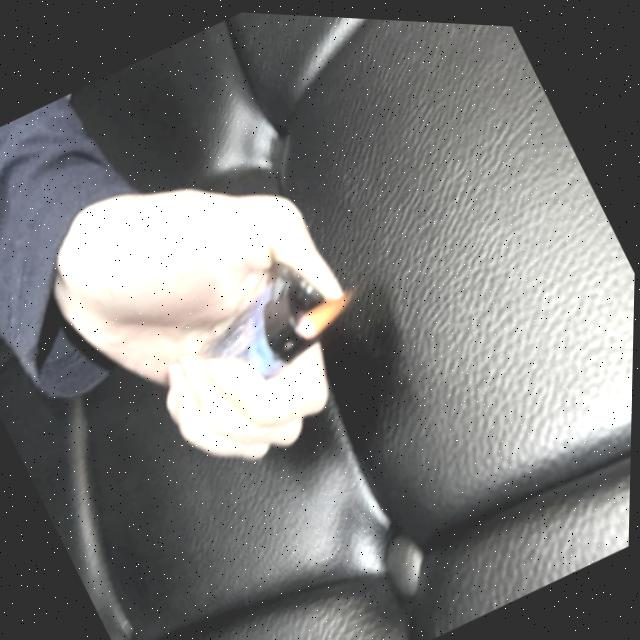Fire: (286, 274, 369, 349)
